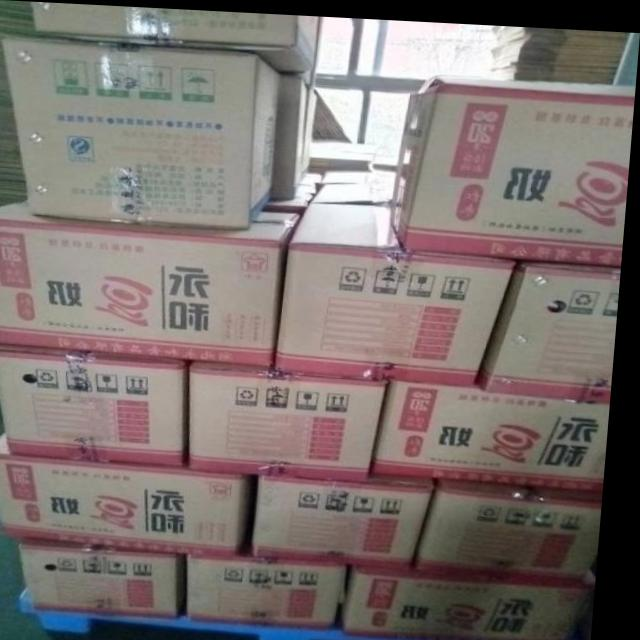box: (2, 34, 283, 227), (0, 199, 307, 365), (391, 70, 637, 259), (279, 198, 520, 381), (0, 433, 260, 554), (378, 376, 616, 486), (0, 343, 199, 466), (196, 358, 396, 478), (354, 549, 606, 640), (480, 253, 625, 397), (31, 1, 321, 72), (421, 472, 611, 577), (260, 468, 441, 565), (27, 537, 198, 616), (196, 542, 358, 624), (274, 72, 310, 196), (265, 169, 324, 211), (315, 179, 395, 203), (322, 166, 397, 182), (306, 85, 319, 174), (284, 67, 313, 85)
